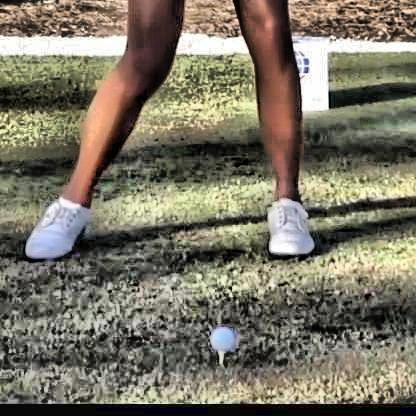golfball: (207, 324, 233, 349)
